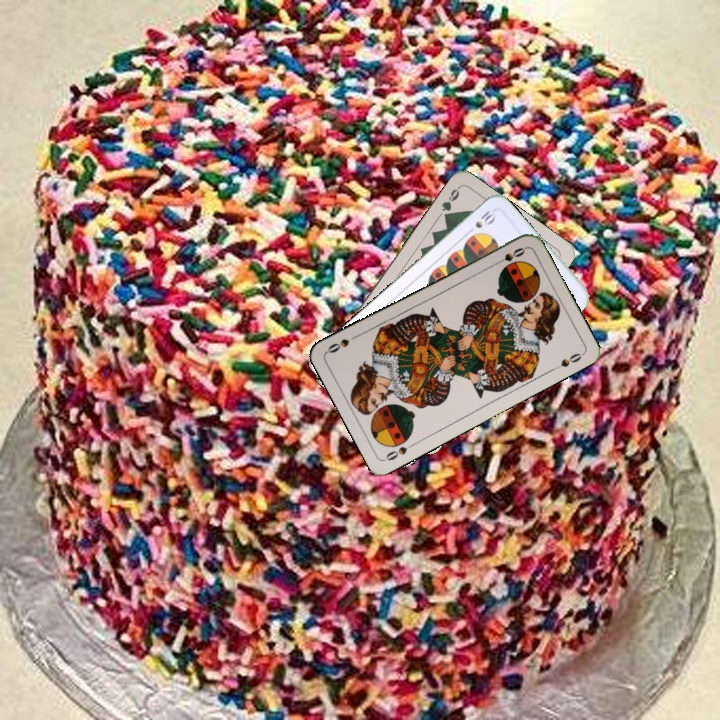G9: (437, 183, 462, 222)
S10: (463, 206, 499, 237)
SO: (490, 243, 528, 268), (381, 438, 419, 463)
